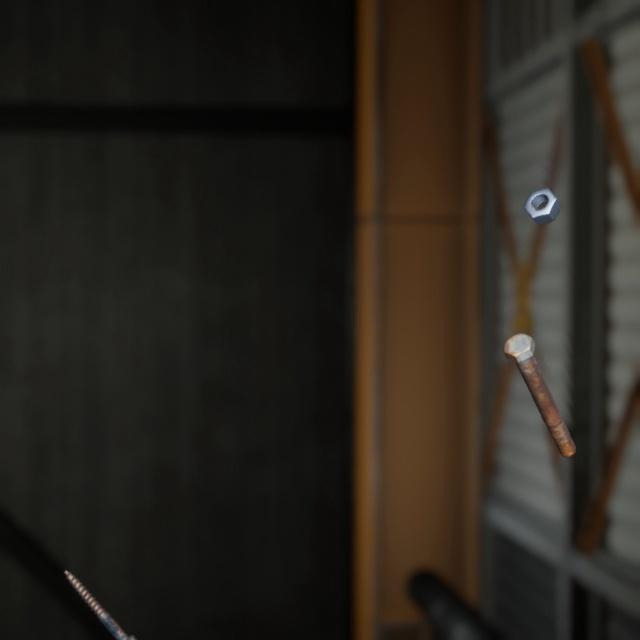bolt: (499, 308, 580, 443), (59, 542, 142, 635)
nut: (518, 168, 566, 213)
